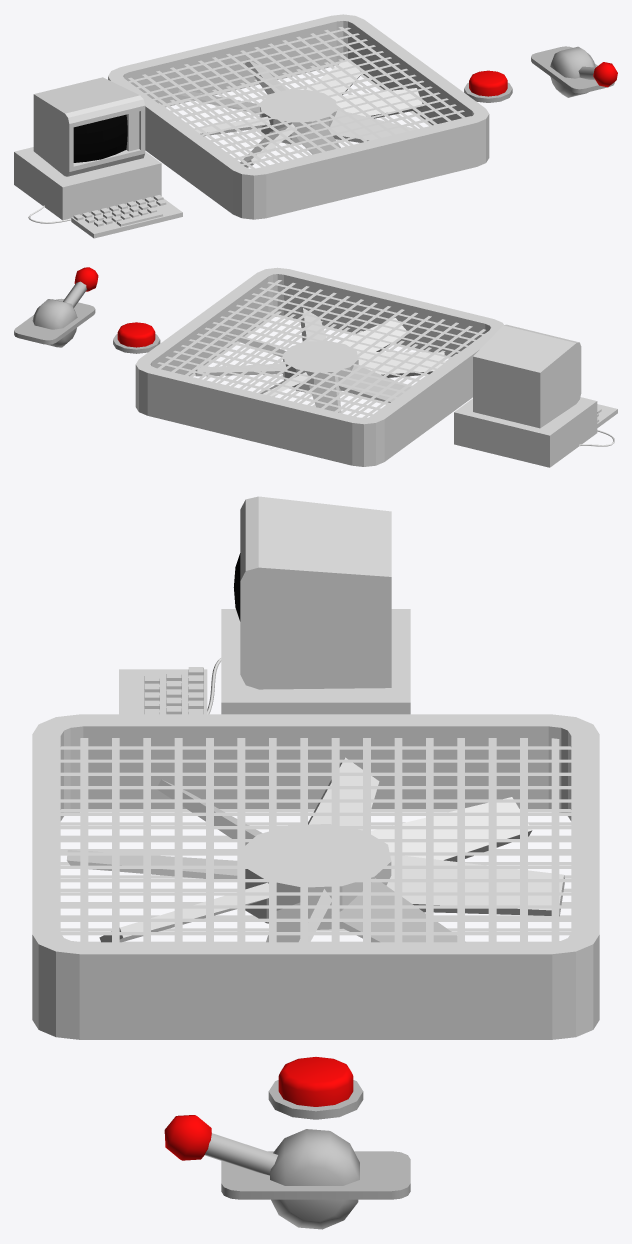
File: CommsDownAssets.fbx
3 views of the same model, one above another, from view 1: azimuth 30°, elevation 25°; view 2: azimuth 150°, elevation 25°; view 3: azimuth 270°, elevation 25° (orthographic). The views are drawn at different scales.
Parts seen in each view (by area): view 1: Big Fan, Cube, Big Fan Blades, Big Fan Center, Lever, Button, Lever Base; view 2: Big Fan, Cube, Big Fan Blades, Lever, Big Fan Center, Lever Base, Button; view 3: Big Fan, Cube, Big Fan Blades, Lever, Big Fan Center, Lever Base, Button.
Part boxes in pixels (x1=…): Big Fan: x1=108, y1=14, x2=489, y2=219; Cube: x1=14, y1=77, x2=182, y2=238; Big Fan Blades: x1=178, y1=59, x2=422, y2=167; Big Fan Center: x1=259, y1=89, x2=337, y2=144; Lever: x1=550, y1=46, x2=617, y2=97; Button: x1=464, y1=70, x2=512, y2=102; Lever Base: x1=531, y1=46, x2=614, y2=93; Big Fan: x1=135, y1=267, x2=503, y2=466; Cube: x1=454, y1=324, x2=617, y2=467; Big Fan Blades: x1=195, y1=308, x2=445, y2=413; Lever: x1=32, y1=267, x2=98, y2=347; Big Fan Center: x1=283, y1=340, x2=358, y2=392; Lever Base: x1=14, y1=298, x2=95, y2=344; Button: x1=113, y1=322, x2=160, y2=353; Big Fan: x1=32, y1=714, x2=599, y2=1039; Cube: x1=119, y1=496, x2=410, y2=714; Big Fan Blades: x1=66, y1=757, x2=564, y2=942; Lever: x1=164, y1=1115, x2=359, y2=1229; Big Fan Center: x1=245, y1=824, x2=391, y2=929; Lever Base: x1=221, y1=1151, x2=410, y2=1199; Button: x1=268, y1=1057, x2=363, y2=1119.
Bounding box in the file's own units: 1376 × 267 × 600.
